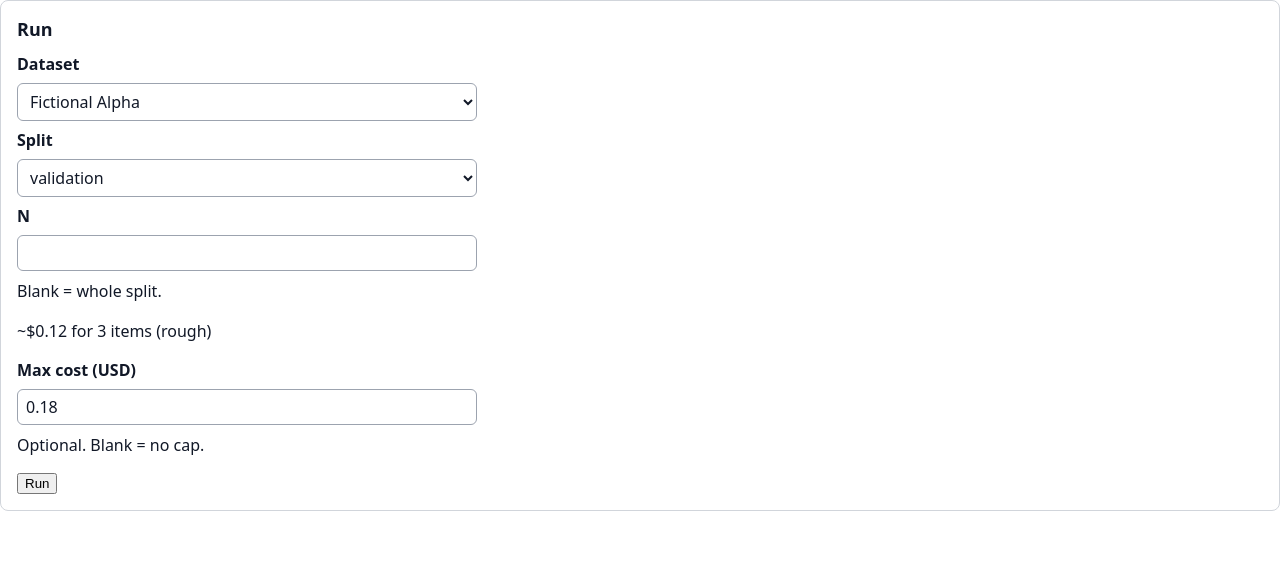
Test: RunPanel form › shows held-out guidance without blocking
The width and height of the screenshot is (1280, 568).
Select "test" in the dropdown labelled "Split": (247, 178) [17,159,477,197]
Wait 400 ms
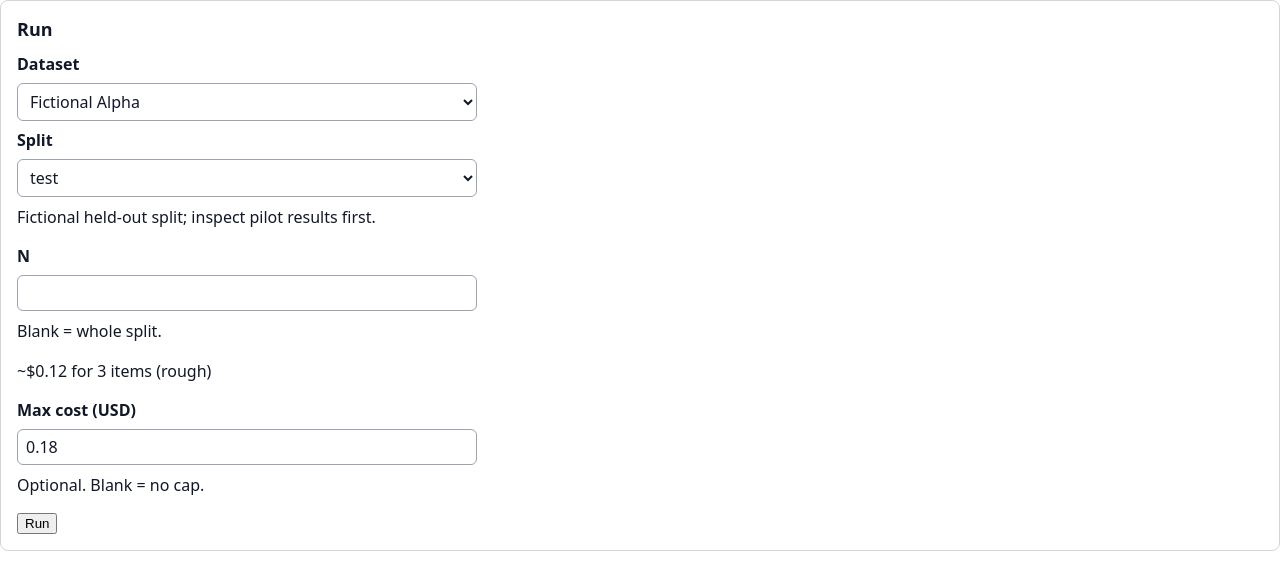
Expected: the button "Run" is enabled, [17,513,58,534]
Now the text "Fictional held-out split; inspect pilot results first." is shown, box [17,206,376,228]
